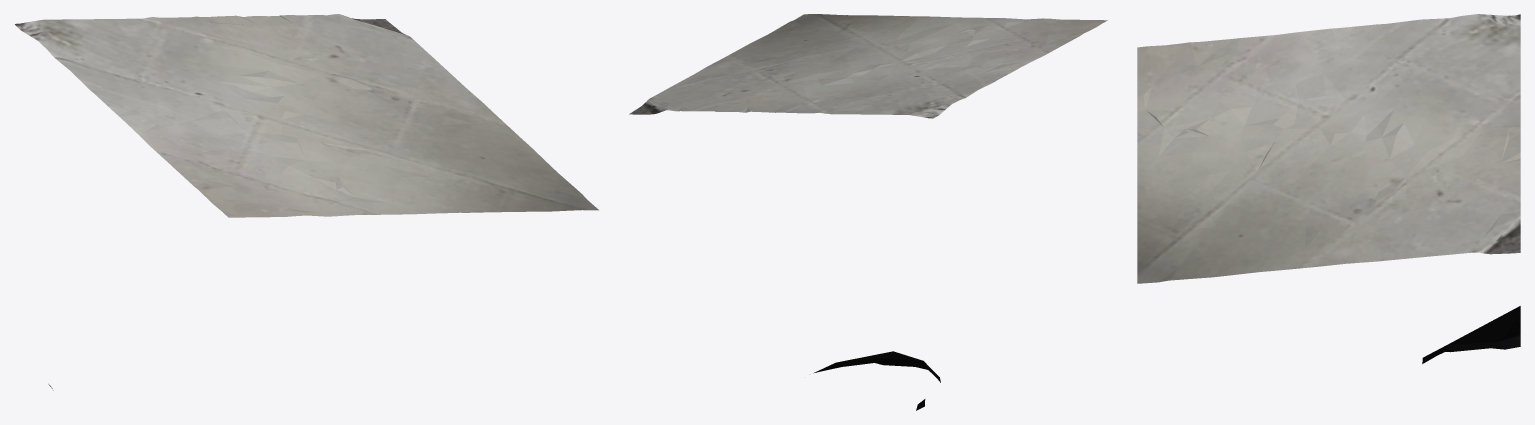
The picture shows the model from 3 angles, left to right: view 1: azimuth 30°, elevation 25°; view 2: azimuth 150°, elevation 25°; view 3: azimuth 270°, elevation 25°; orthographic projection. The views are drawn at different scales.
Size of the model in its own units: 0.8373 by 0.7805 by 0.8374.
Materials: 3 (3 with a texture image).
